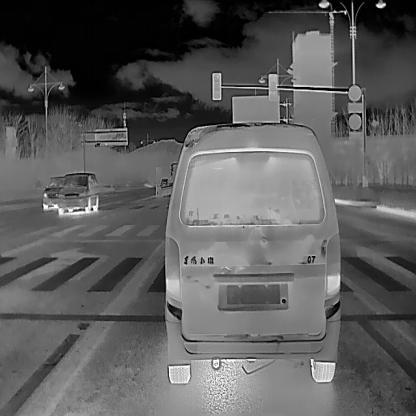car: (161, 121, 341, 389), (59, 171, 98, 211), (42, 174, 65, 210)
